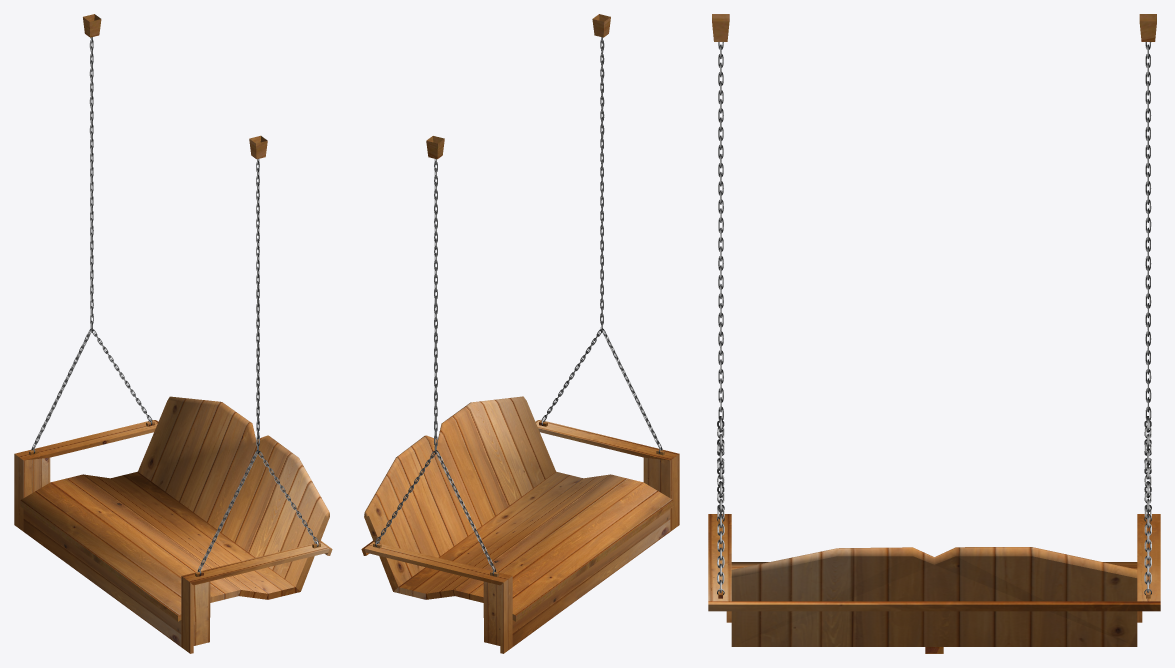
The model's file is swingA_obj.obj.
3 views of the same model, side by side, from view 1: azimuth 30°, elevation 25°; view 2: azimuth 150°, elevation 25°; view 3: azimuth 270°, elevation 25° (orthographic). The views are drawn at different scales.
Visible parts, largest first — view 1: Mesh_swing_swing_SwingMat_swingTexL.tga; view 2: Mesh_swing_swing_SwingMat_swingTexL.tga; view 3: Mesh_swing_swing_SwingMat_swingTexL.tga.
Part boxes in pixels (<box>): Mesh_swing_swing_SwingMat_swingTexL.tga: <box>14,14,332,653</box>; Mesh_swing_swing_SwingMat_swingTexL.tga: <box>361,14,679,653</box>; Mesh_swing_swing_SwingMat_swingTexL.tga: <box>708,14,1160,653</box>.
Size of the model in its own units: 7.18 by 20.86 by 13.5.
